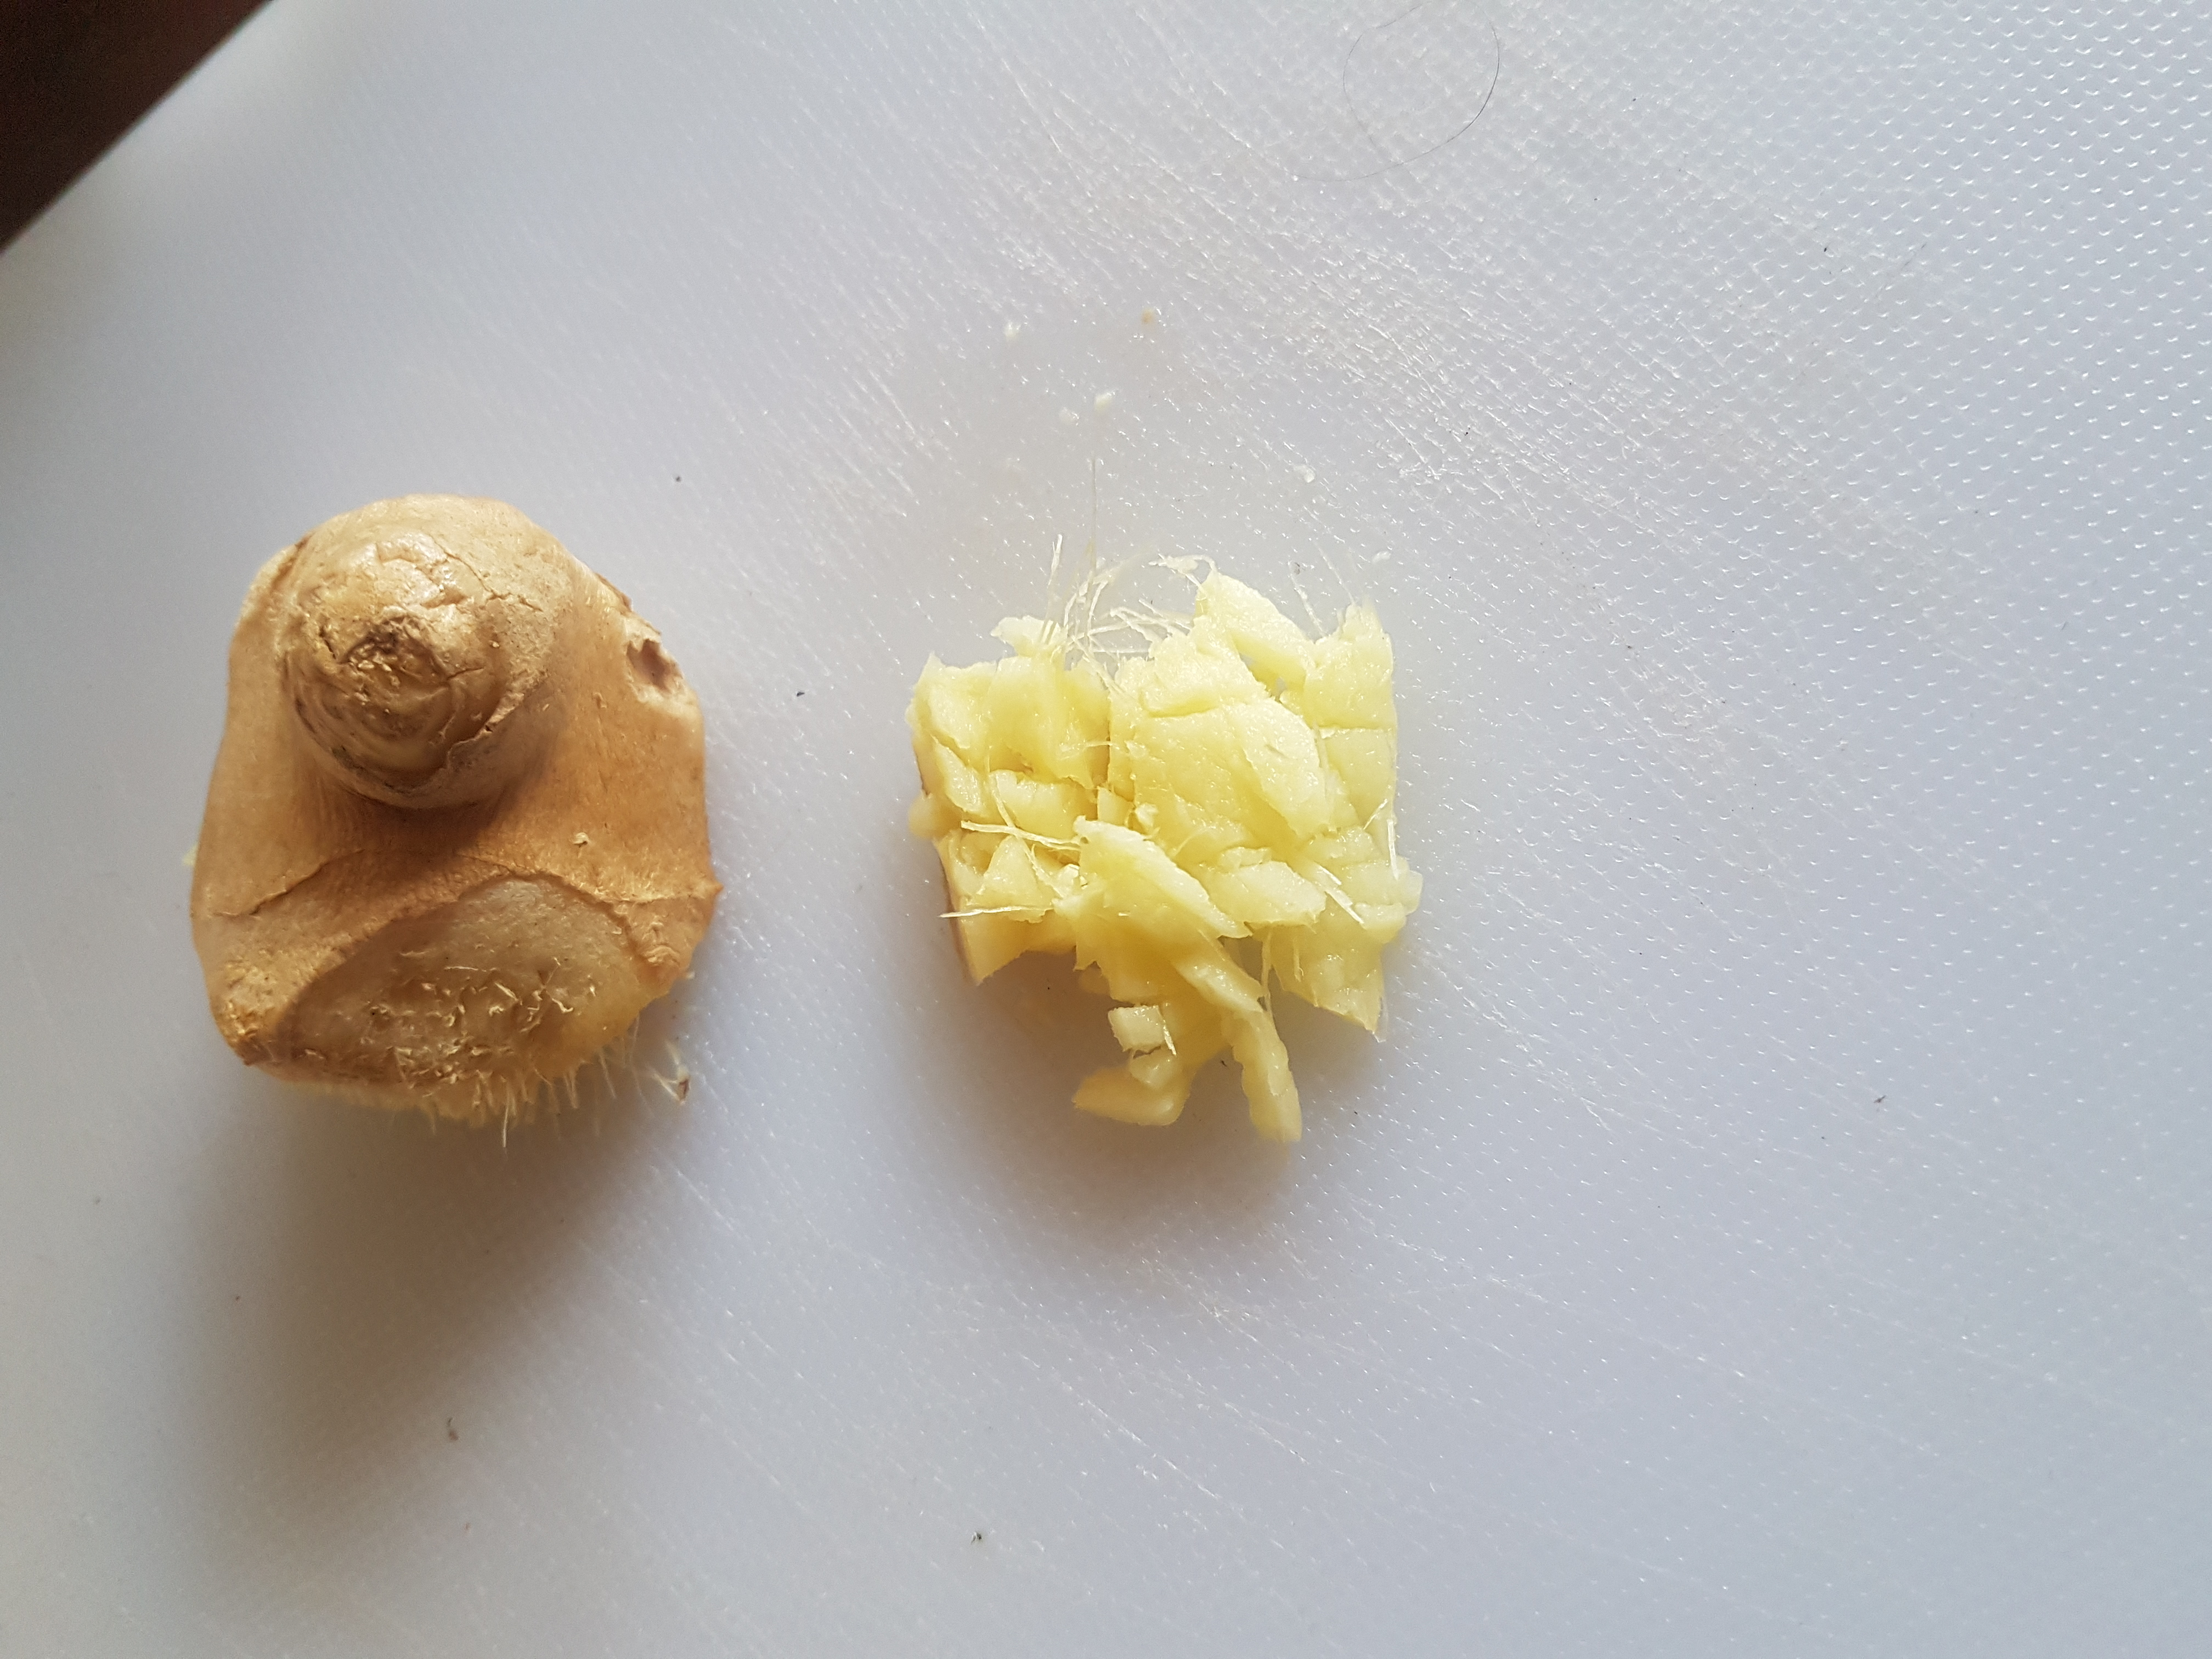Minced ginger: (158, 491, 752, 1133), (906, 589, 1458, 1161)
